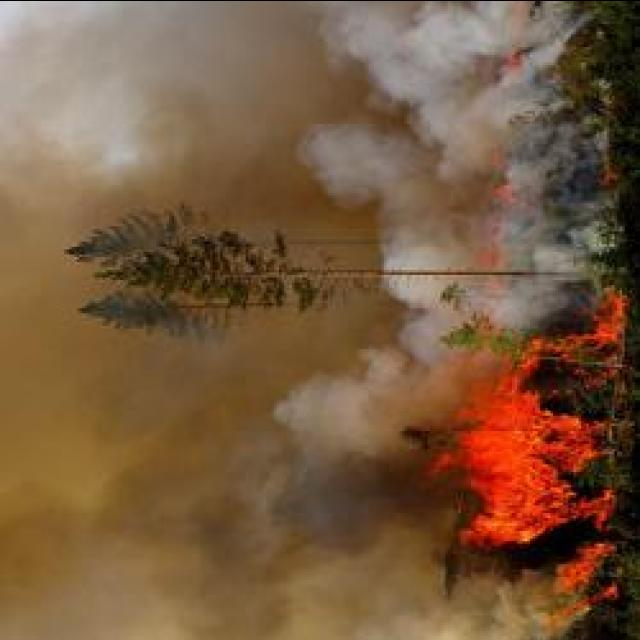fire: (453, 392, 602, 544)
smoke: (280, 3, 570, 226), (98, 435, 398, 640), (362, 250, 568, 332), (416, 548, 551, 640)
